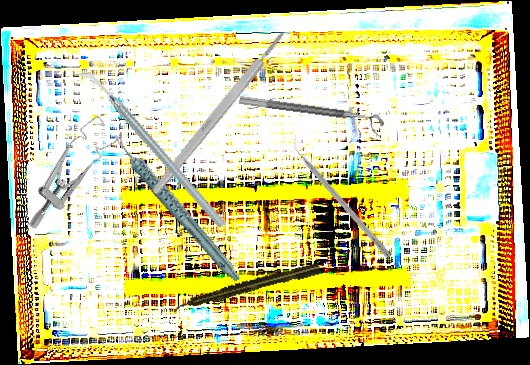Chopper: (73, 42, 228, 255), (286, 133, 398, 259)
Fixation Ring: (237, 94, 385, 138)
Handpiece: (114, 112, 243, 301), (172, 261, 322, 314)
Scalpel Handle: (149, 29, 289, 197)
Speculum: (1, 112, 133, 232)
